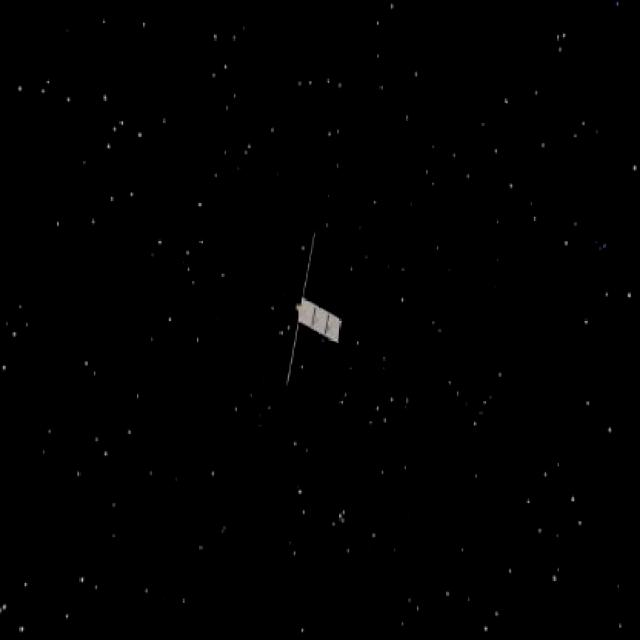satellite: (271, 223, 353, 402)
